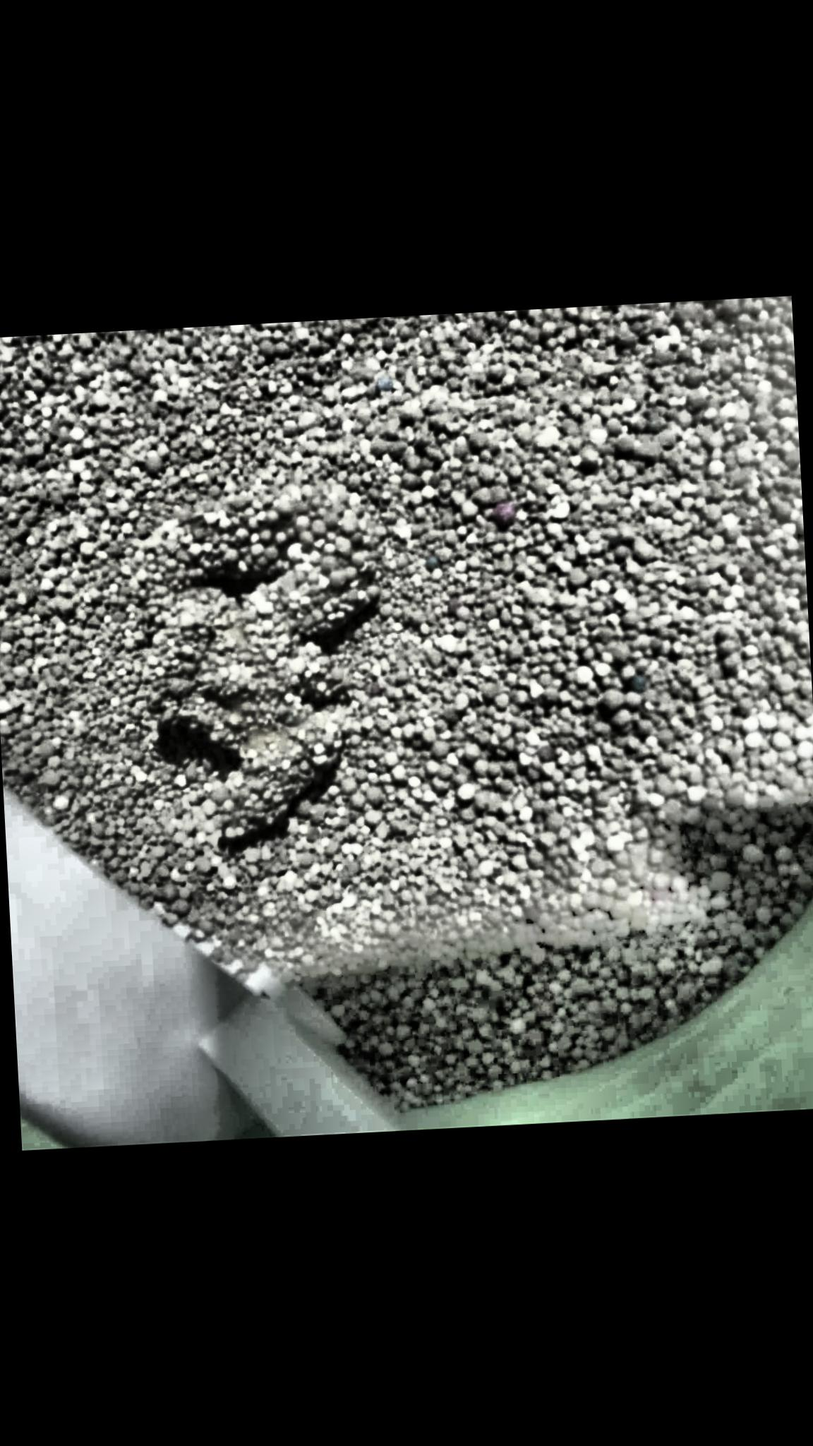poop: (158, 484, 377, 853)
